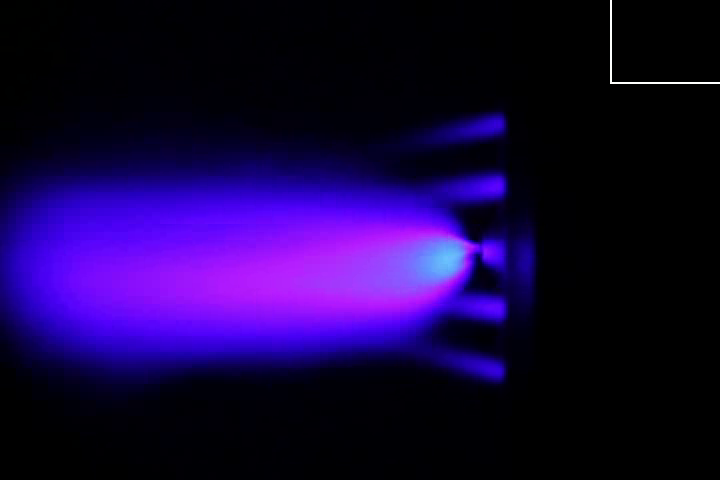burner cap: (483, 235, 511, 273)
pilot flame: (403, 342, 508, 387), (416, 109, 504, 143), (416, 174, 511, 204), (446, 292, 508, 323)
stable: (214, 227, 481, 305)
